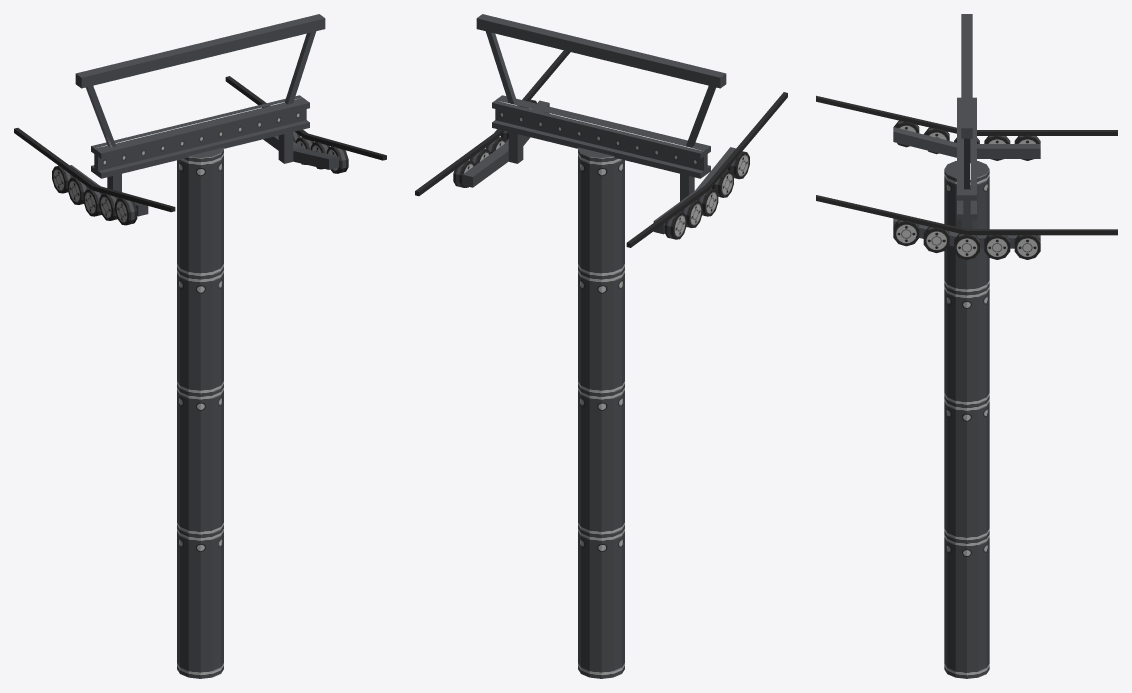
Rendered from bb0e1fe4-2de1-4f8d-871a-765ccee1d278.glb.
3 views of the same model, side by side, from view 1: azimuth 30°, elevation 25°; view 2: azimuth 150°, elevation 25°; view 3: azimuth 270°, elevation 25° (orthographic). The views are drawn at different scales.
Parts seen in each view (by area): view 1: Pillar_3, Cable12, Cable13; view 2: Pillar_3, Cable12, Cable13; view 3: Pillar_3, Cable13, Cable12, Roller48, Roller46, Roller45, Roller47, Roller49.
Part boxes in pixels (x1,y1,x2,y2): Pillar_3: (70, 14, 339, 678); Cable12: (14, 128, 175, 212); Cable13: (225, 76, 386, 160); Pillar_3: (462, 14, 735, 678); Cable12: (626, 92, 787, 247); Cable13: (415, 50, 570, 196); Pillar_3: (893, 14, 1040, 678); Cable13: (816, 195, 1117, 235); Cable12: (816, 95, 1117, 135); Roller48: (923, 226, 949, 253); Roller46: (984, 234, 1010, 259); Roller45: (1014, 234, 1040, 259); Roller47: (954, 233, 979, 259); Roller49: (893, 220, 919, 246).
Bounding box in the file's own units: 357 × 872 × 399.
Materials: 1 (1 with a texture image).
